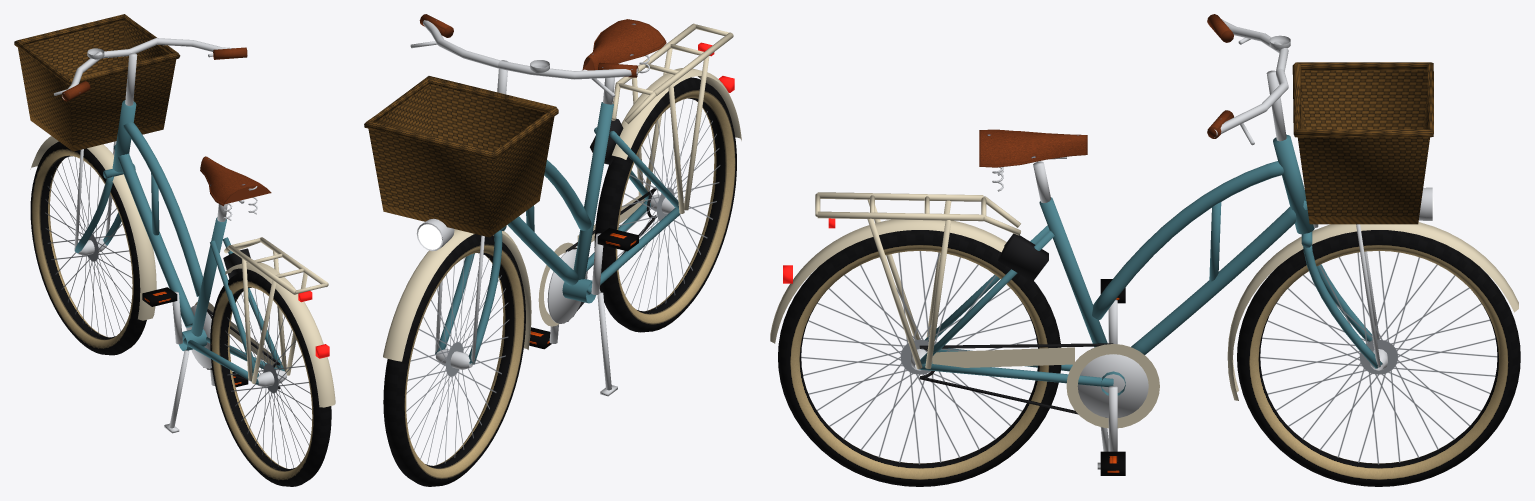
The model's file is bicycle.glb.
3 views of the same model, side by side, from view 1: azimuth 30°, elevation 25°; view 2: azimuth 150°, elevation 25°; view 3: azimuth 270°, elevation 25° (orthographic). The views are drawn at different scales.
Parts seen in each view (by area): view 1: steer, frame, wheel_B, wheel_F, cranks, kickstand, pedal_L; view 2: steer, frame, wheel_F, wheel_B, cranks, kickstand, pedal_L; view 3: frame, steer, wheel_F, wheel_B, cranks.
Boxes of the visible parts, x1,y1,x2,y2 form: steer: (14,14,247,320); frame: (112,100,335,407); wheel_B: (210,270,331,486); wheel_F: (30,141,146,355); cranks: (172,291,214,385); kickstand: (164,350,189,433); pedal_L: (142,287,177,306); steer: (364,14,638,364); frame: (507,19,741,326); wheel_F: (383,234,525,486); wheel_B: (594,77,736,332); cranks: (547,233,603,343); kickstand: (597,292,617,396); pedal_L: (597,228,638,251); frame: (770,129,1314,428); steer: (1207,14,1518,400); wheel_F: (1237,230,1520,486); wheel_B: (778,230,1061,486); cranks: (1077,299,1148,451).
Size of the model in its own units: 0.6538 by 1.12 by 1.8.
Materials: 11 (5 with a texture image).
